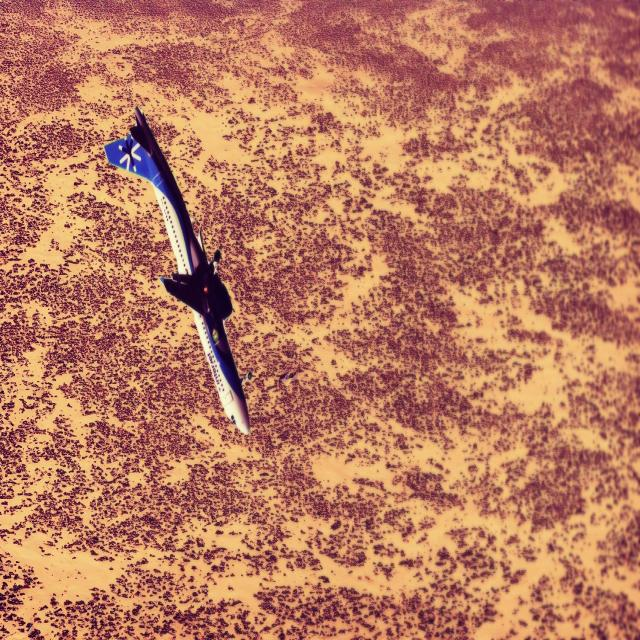airplane: (103, 105, 251, 436)
